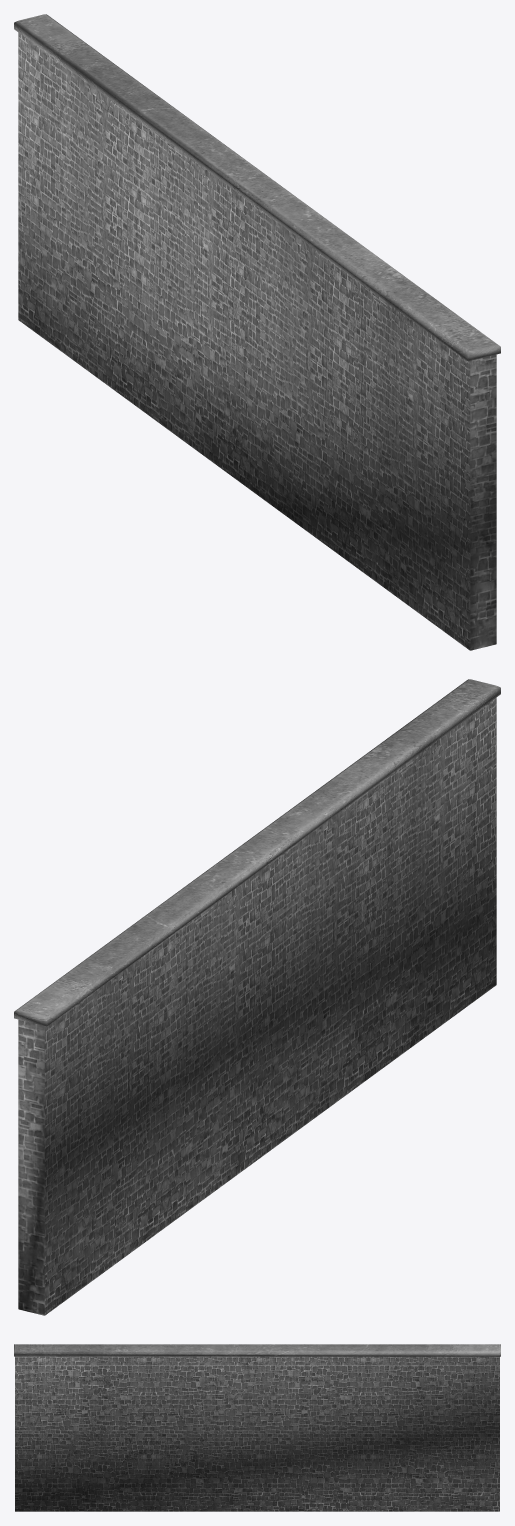
Rendered from stonefence.obj.
3 views of the same model, one above another, from view 1: azimuth 30°, elevation 25°; view 2: azimuth 150°, elevation 25°; view 3: azimuth 270°, elevation 25° (orthographic). The views are drawn at different scales.
Parts seen in each view (by area): view 1: strandkerites; view 2: strandkerites; view 3: strandkerites.
Part boxes in pixels (x1,y1,x2,y2): strandkerites: (14, 14, 500, 650); strandkerites: (14, 679, 500, 1315); strandkerites: (14, 1344, 500, 1511).
Bounding box in the file's own units: 15.24 × 132 × 362.
